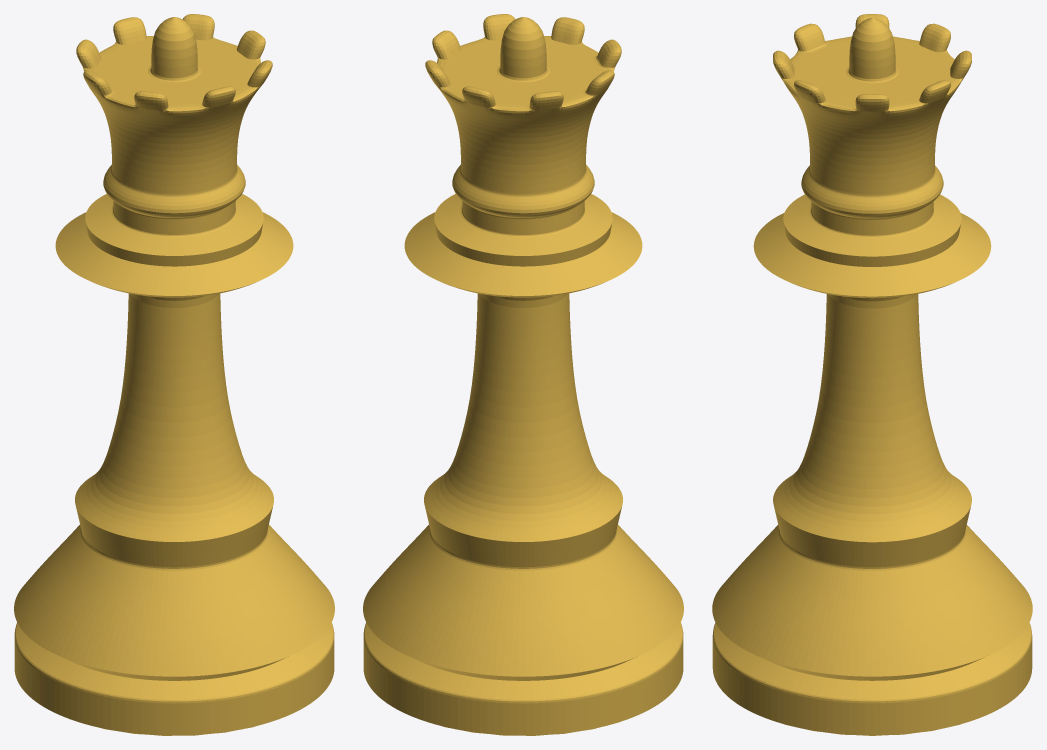
The model's file is gold_Queen.fbx.
3 views of the same model, side by side, from view 1: azimuth 30°, elevation 25°; view 2: azimuth 150°, elevation 25°; view 3: azimuth 270°, elevation 25° (orthographic).
Parts seen in each view (by area): view 1: Cylinder; view 2: Cylinder; view 3: Cylinder.
Part boxes in pixels (x1,y1,x2,y2): Cylinder: (14, 14, 334, 735); Cylinder: (363, 14, 683, 735); Cylinder: (712, 14, 1032, 735).
Size of the model in its own units: 4.45 by 9.98 by 4.45.
